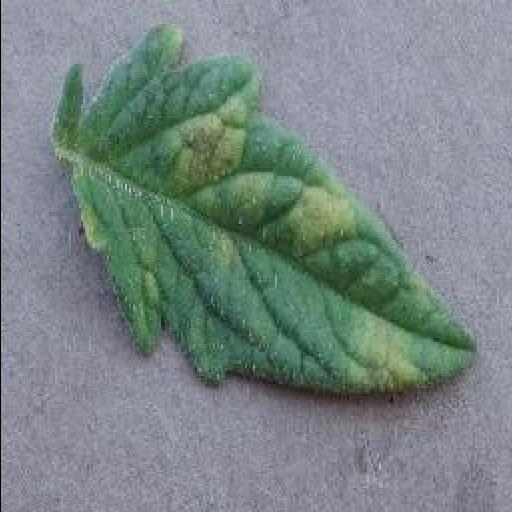disease_tomato: (51, 28, 481, 390)
